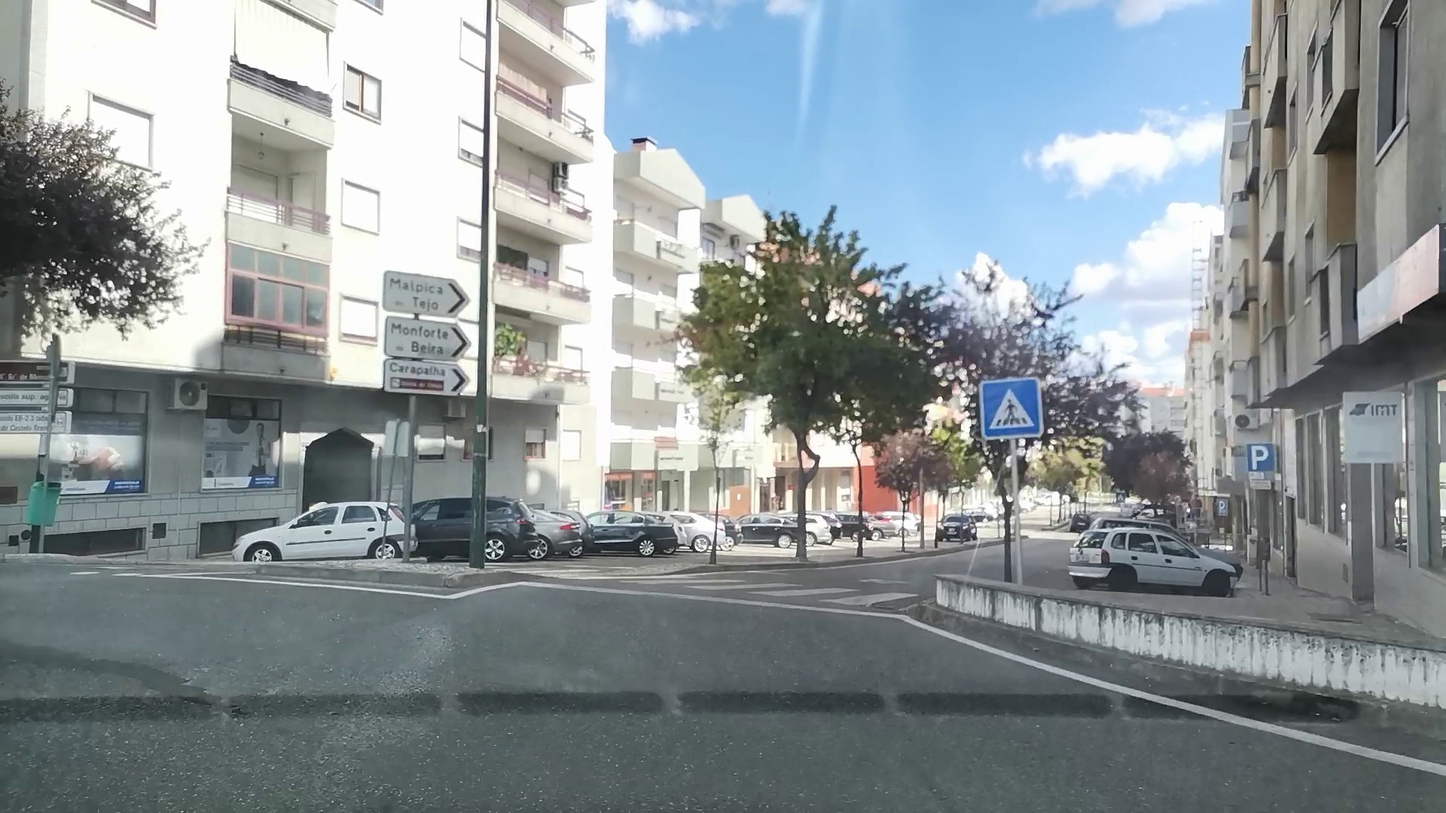Stairs: (580, 566, 923, 610)
